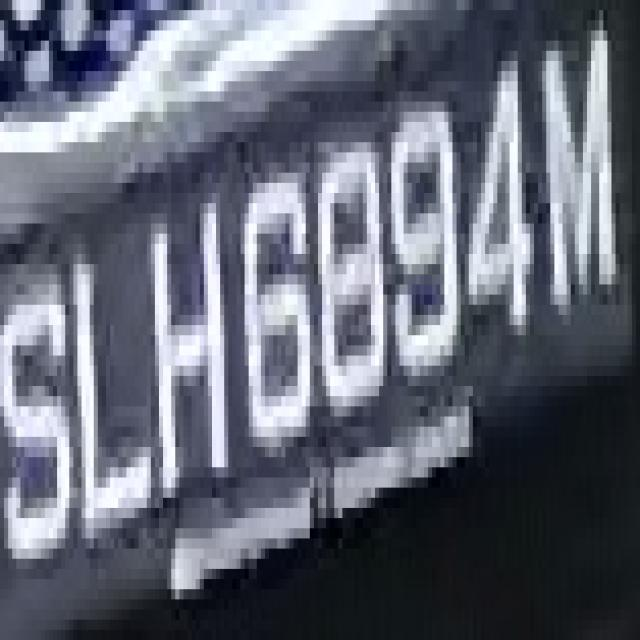4: (457, 51, 542, 356)
6: (232, 122, 322, 488)
8: (294, 152, 396, 416)
9: (379, 71, 465, 396)
H: (134, 193, 244, 538)
L: (65, 213, 167, 559)
M: (534, 10, 620, 325)
S: (4, 234, 78, 589)
